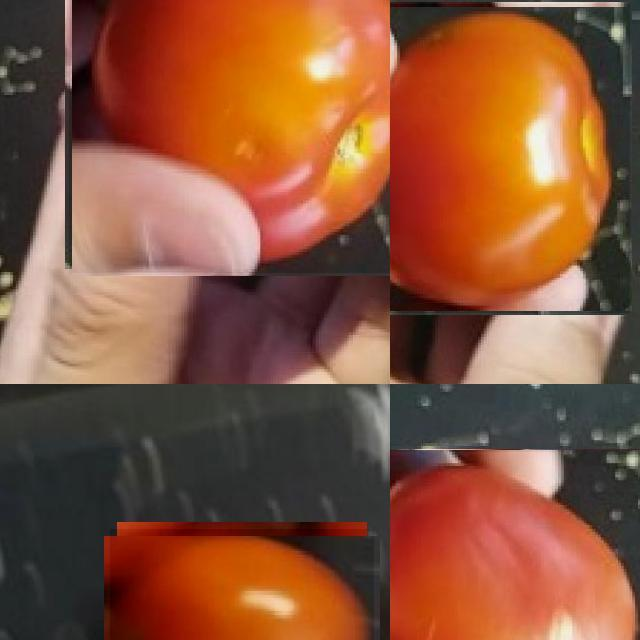Fresh Tomato: (68, 0, 390, 272), (390, 4, 629, 313), (110, 528, 373, 640)
Rotten Tomato: (390, 450, 640, 640)
